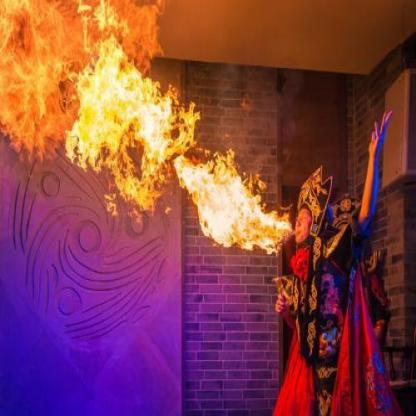fire: (0, 0, 294, 254)
